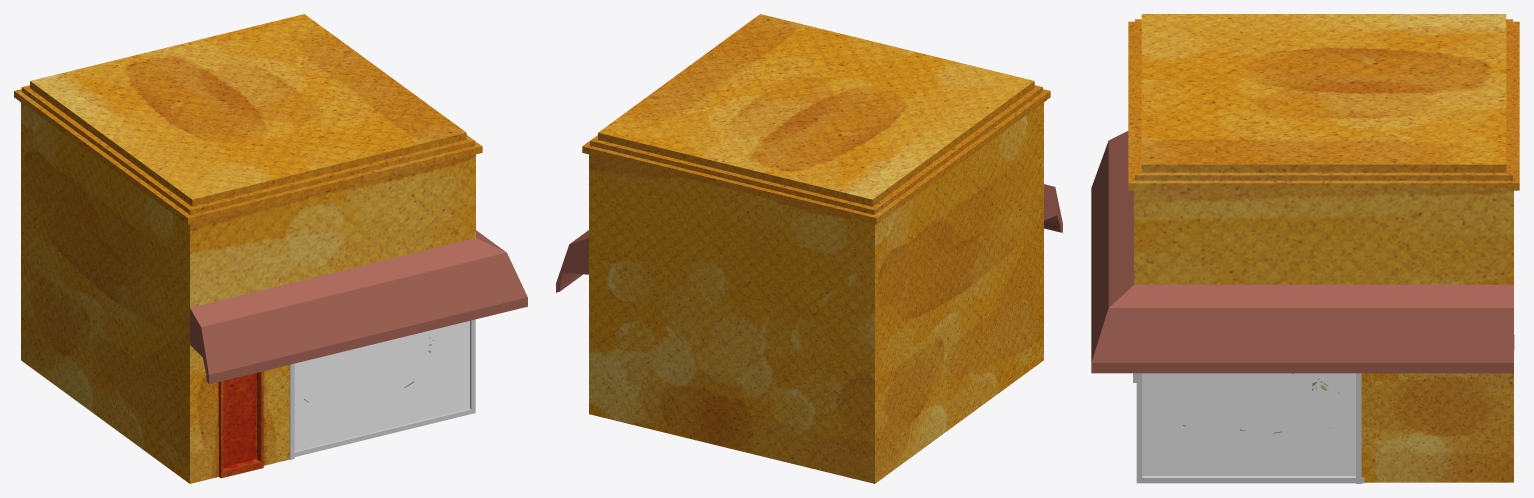
File: cornerstore_final.fbx
3 views of the same model, side by side, from view 1: azimuth 30°, elevation 25°; view 2: azimuth 150°, elevation 25°; view 3: azimuth 270°, elevation 25° (orthographic). The views are drawn at different scales.
Visible parts, largest first — view 1: store, glass1; view 2: store; view 3: store, glass1.
Boxes of the visible parts, x1,y1,x2,y2 form: store: (14, 14, 527, 483); glass1: (294, 321, 469, 451); store: (556, 14, 1062, 483); store: (1091, 14, 1519, 483); glass1: (1142, 373, 1355, 475).
Size of the model in its own units: 4.42 by 3.71 by 4.51.
